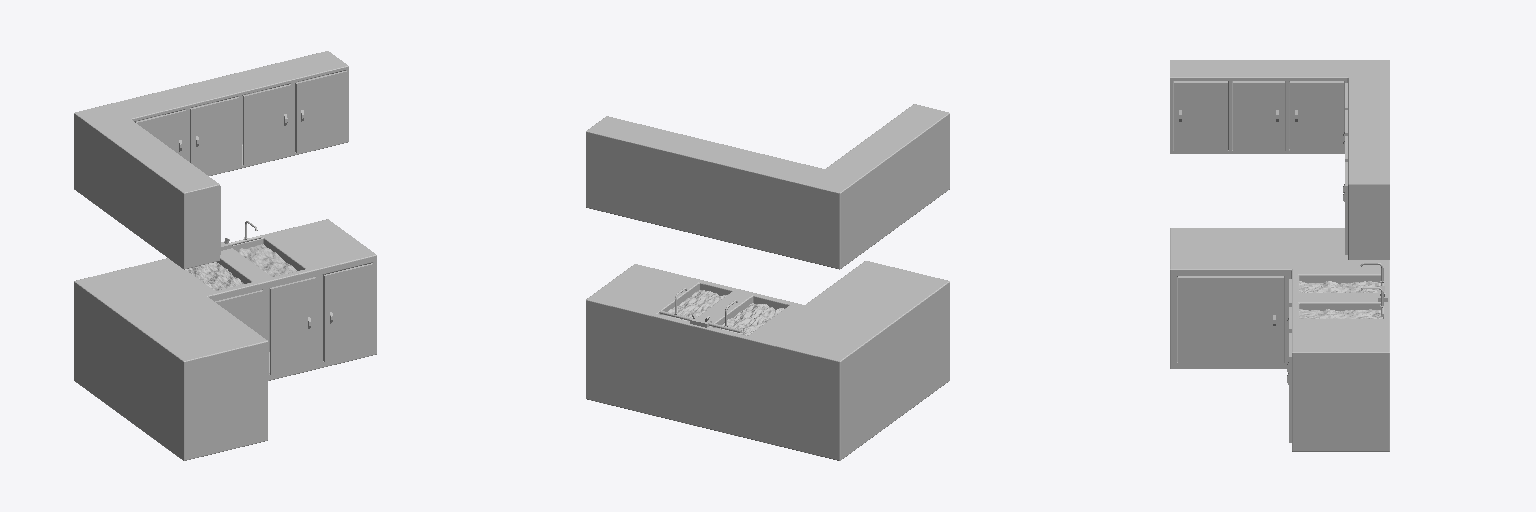
The model's file is mueble.obj.
3 views of the same model, side by side, from view 1: azimuth 30°, elevation 25°; view 2: azimuth 150°, elevation 25°; view 3: azimuth 270°, elevation 25° (orthographic).
Parts seen in each view (by area): view 1: mueble, mueble-pared, Plane.005, Plane.009, Cube.021, Cube.018, Cube.019, Cube.022, Plane.019, agua2, agua1; view 2: mueble, mueble-pared, agua1, agua2; view 3: mueble, mueble-pared, Plane.020, Cube.023, Cube.024, Cube.020, agua1, agua2.
Part boxes in pixels (left/top/right/bottom): mueble: left=74, top=219, right=376, bottom=460; mueble-pared: left=74, top=51, right=348, bottom=269; Plane.005: left=323, top=263, right=373, bottom=361; Plane.009: left=270, top=277, right=316, bottom=374; Cube.021: left=295, top=71, right=346, bottom=152; Cube.018: left=243, top=84, right=291, bottom=165; Cube.019: left=190, top=97, right=238, bottom=174; Cube.022: left=135, top=110, right=186, bottom=159; Plane.019: left=215, top=290, right=263, bottom=337; agua2: left=237, top=244, right=296, bottom=276; agua1: left=185, top=262, right=243, bottom=290; mueble: left=586, top=261, right=949, bottom=460; mueble-pared: left=586, top=104, right=949, bottom=269; agua1: left=717, top=303, right=783, bottom=335; agua2: left=664, top=290, right=726, bottom=321; mueble: left=1170, top=228, right=1389, bottom=451; mueble-pared: left=1170, top=60, right=1389, bottom=259; Plane.020: left=1178, top=276, right=1283, bottom=363; Cube.023: left=1174, top=81, right=1227, bottom=151; Cube.024: left=1290, top=81, right=1343, bottom=151; Cube.020: left=1233, top=81, right=1284, bottom=151; agua1: left=1299, top=281, right=1380, bottom=292; agua2: left=1299, top=309, right=1382, bottom=318.
Size of the model in its own units: 2.08 by 2.1 by 1.56.